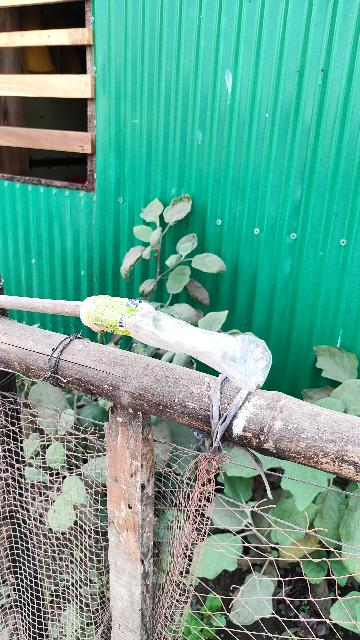bottle: (78, 284, 288, 391)
